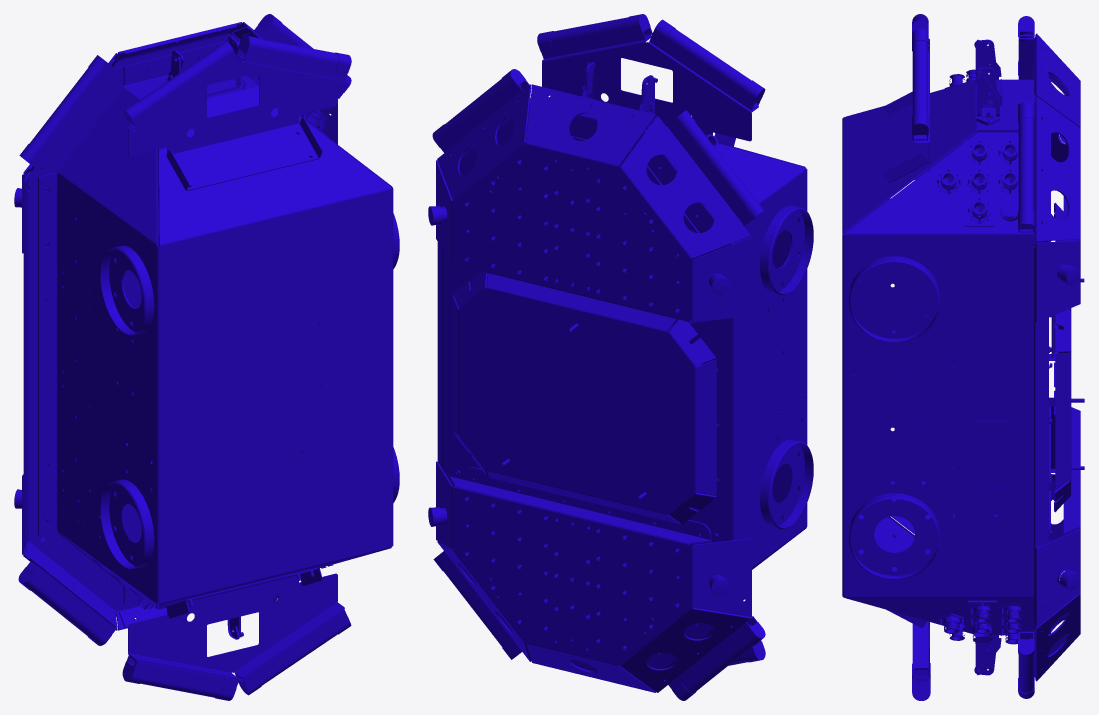
File: seekurjr_body_new_low2.dae
The picture shows the model from 3 angles, left to right: view 1: azimuth 30°, elevation 25°; view 2: azimuth 150°, elevation 25°; view 3: azimuth 270°, elevation 25°; orthographic projection.
Parts seen in each view (by area): view 1: Seekurjr_Body_New_Low2; view 2: Seekurjr_Body_New_Low2; view 3: Seekurjr_Body_New_Low2.
Boxes of the visible parts, box(x1,y1,x2,y2) form: Seekurjr_Body_New_Low2: box(14, 14, 399, 700); Seekurjr_Body_New_Low2: box(428, 14, 813, 700); Seekurjr_Body_New_Low2: box(842, 14, 1084, 700).
Size of the model in its own units: 0.6273 by 0.394 by 1.2.
